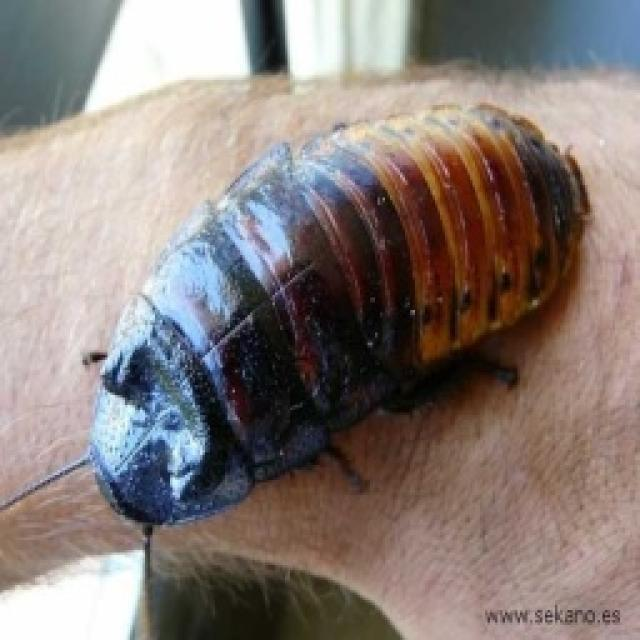cockroach: (39, 97, 603, 551)
